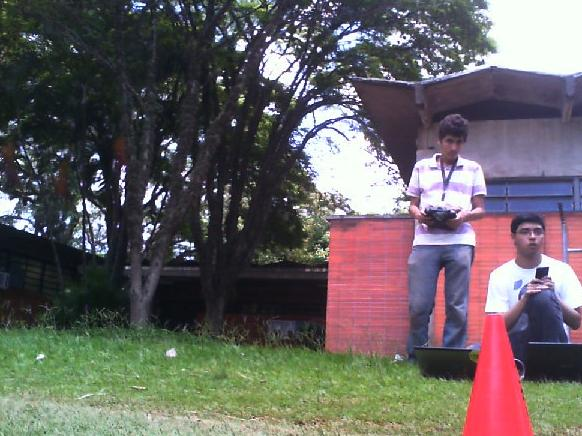0 cone: (448, 315, 551, 436)
